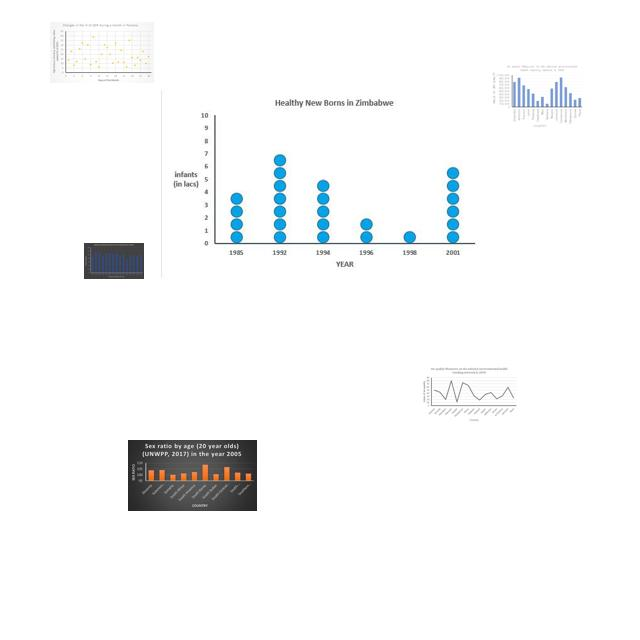Graph: (161, 90, 482, 278), (128, 440, 257, 511), (50, 22, 154, 83), (490, 64, 584, 130), (420, 366, 518, 423), (84, 243, 144, 279)
